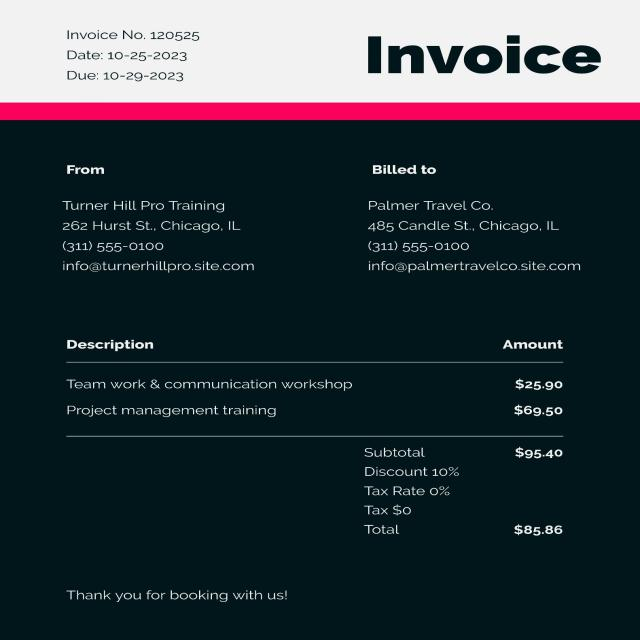paragraph: (57, 319, 598, 429), (347, 144, 598, 284), (23, 157, 294, 282), (343, 437, 589, 557), (343, 22, 613, 92), (50, 20, 217, 90), (49, 575, 304, 620)
